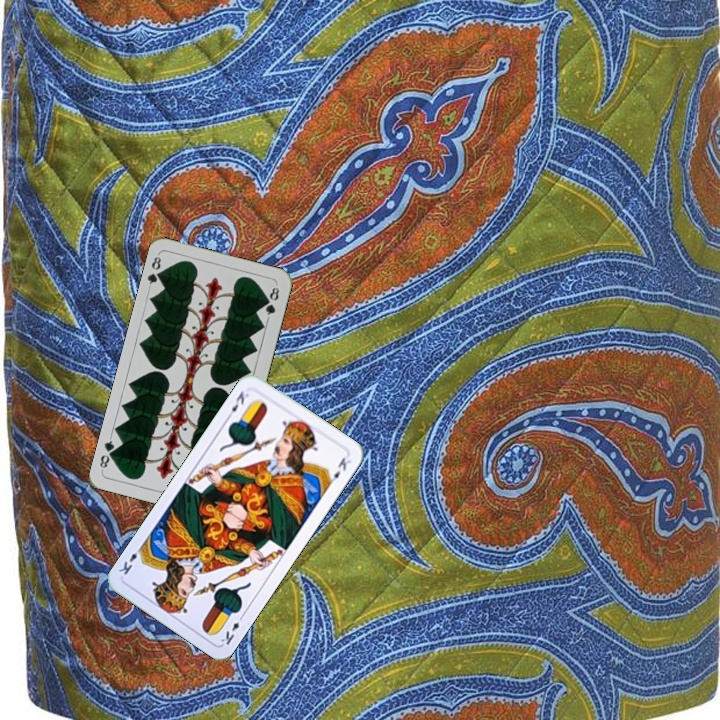EK: (217, 610, 247, 647), (223, 387, 251, 422)
G8: (143, 251, 167, 291)
